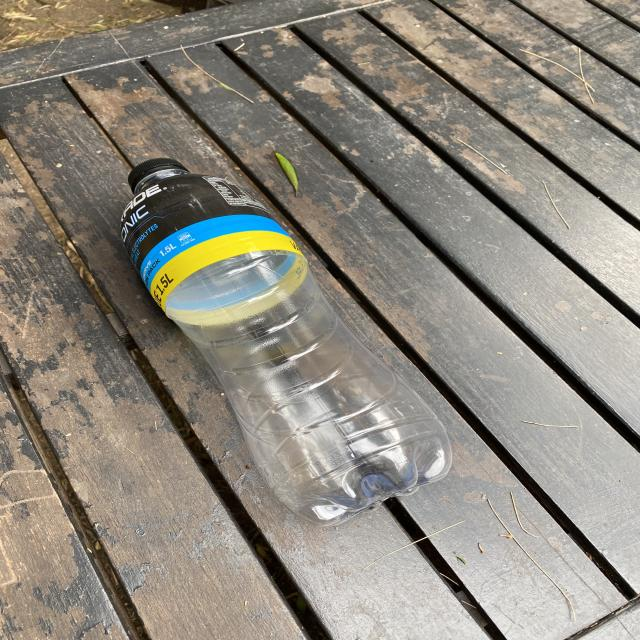bottle: (121, 154, 459, 525)
